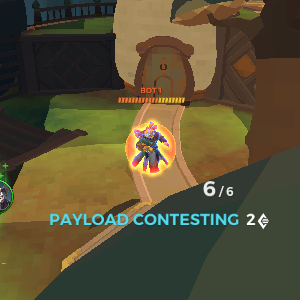model: (136, 119, 165, 181)
